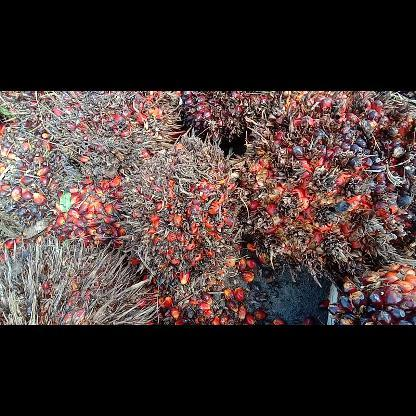Terlalu masak: (239, 91, 415, 277), (108, 130, 254, 314), (43, 90, 187, 184), (179, 91, 309, 141), (324, 258, 414, 324)
